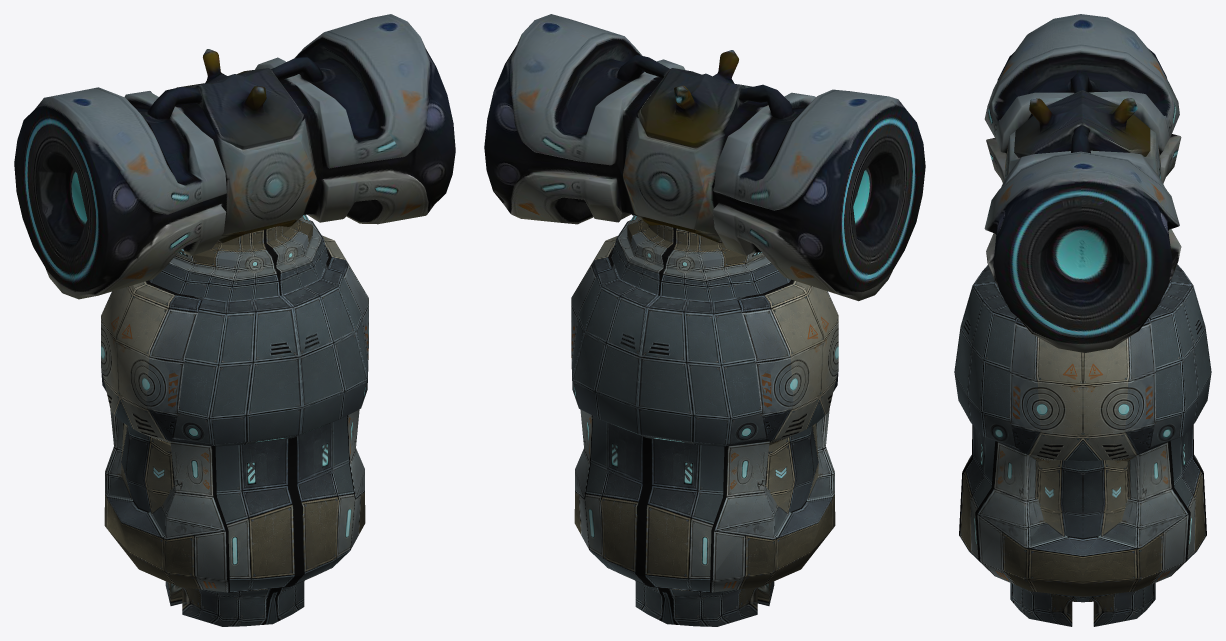
The model's file is HAMMER3.glb.
3 renders of one model, left to right at view 1: azimuth 30°, elevation 25°; view 2: azimuth 150°, elevation 25°; view 3: azimuth 270°, elevation 25°, orthographic. The views are drawn at different scales.
Parts seen in each view (by area): view 1: 0, 1.007; view 2: 0, 1.007; view 3: 0, 1.007.
Part boxes in pixels (box(x1,y1,x2,y2)): 0: box(101, 214, 368, 626); 1.007: box(14, 14, 455, 299); 0: box(571, 215, 838, 626); 1.007: box(484, 14, 925, 301); 0: box(954, 264, 1211, 626); 1.007: box(984, 14, 1181, 352).
Bounding box in the file's own units: 1.03 × 1.51 × 0.6951.
1 material, 1 textured.
